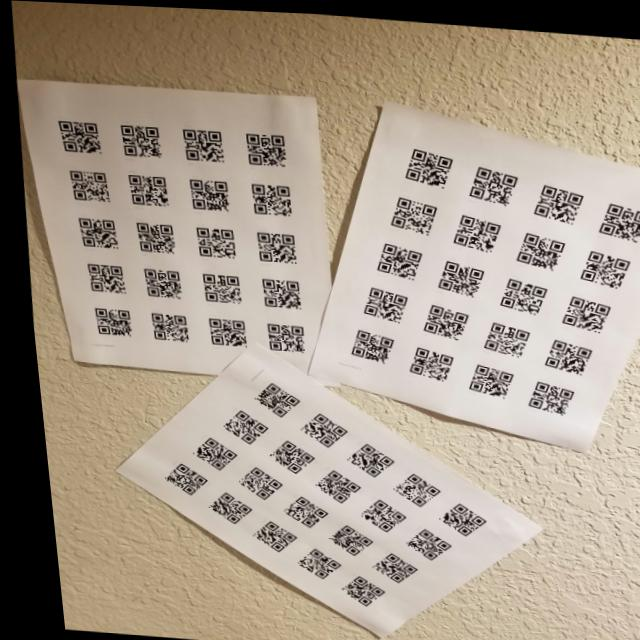QR_CODE: (390, 134, 455, 189), (564, 240, 637, 288), (234, 218, 302, 267), (455, 155, 519, 205), (519, 173, 581, 224), (501, 224, 566, 272), (546, 285, 611, 333), (511, 370, 575, 418), (375, 189, 440, 236), (437, 207, 502, 254), (167, 120, 230, 167), (481, 270, 548, 314), (361, 234, 426, 279), (527, 330, 592, 375), (43, 113, 105, 160), (585, 192, 640, 243), (111, 165, 170, 212), (451, 353, 510, 400), (346, 279, 409, 323), (406, 295, 469, 339), (464, 313, 527, 356), (333, 320, 391, 366), (423, 254, 484, 297), (205, 403, 264, 447), (239, 171, 294, 218), (125, 261, 185, 304), (109, 117, 166, 162), (393, 339, 450, 384), (175, 430, 234, 473), (236, 123, 291, 169), (61, 212, 119, 255), (238, 376, 296, 419), (254, 433, 312, 476), (118, 217, 177, 259), (330, 435, 389, 477), (57, 163, 113, 207), (182, 219, 238, 263), (299, 461, 355, 505), (285, 406, 342, 449), (376, 465, 434, 507), (250, 269, 306, 312), (423, 494, 479, 537), (389, 519, 446, 561), (193, 310, 246, 355), (176, 171, 231, 214), (354, 547, 416, 584), (190, 264, 242, 308), (192, 485, 245, 528), (345, 490, 399, 532), (267, 488, 321, 530), (252, 315, 305, 357), (135, 307, 189, 348), (222, 461, 276, 502), (314, 518, 370, 557), (325, 570, 381, 609), (79, 300, 133, 340), (147, 457, 201, 497), (236, 514, 290, 554), (281, 542, 336, 581), (74, 256, 125, 297)
